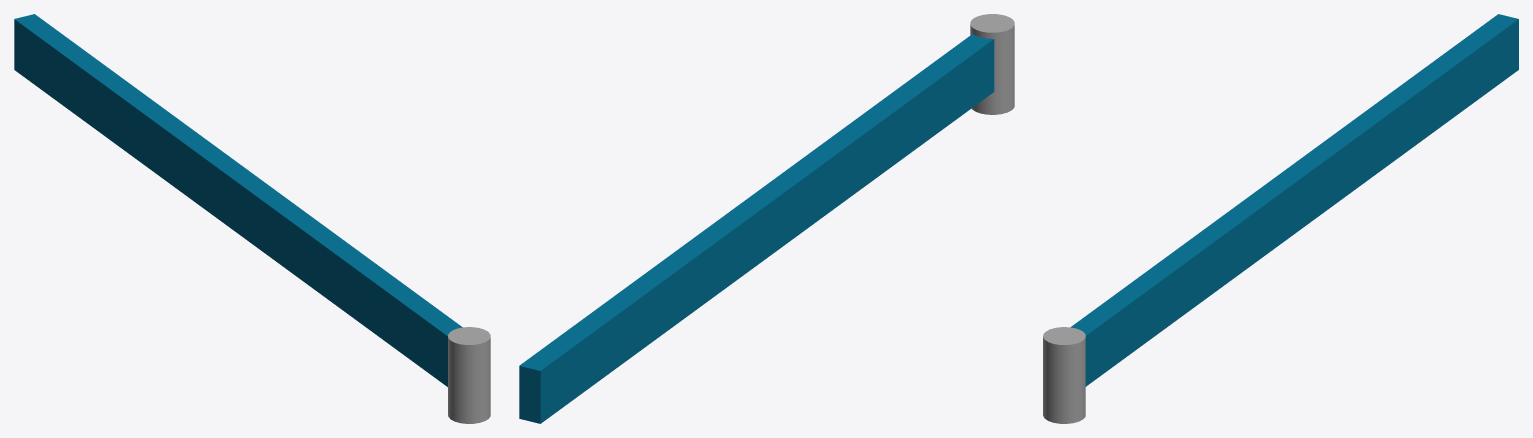
File: Sprinkler2.fbx
The picture shows the model from 3 angles, left to right: view 1: azimuth 30°, elevation 25°; view 2: azimuth 150°, elevation 25°; view 3: azimuth 330°, elevation 25°; orthographic projection. The views are drawn at different scales.
Visible parts, largest first — view 1: pCylinder21; view 2: pCylinder21; view 3: pCylinder21.
Boxes of the visible parts, x1,y1,x2,y2 form: pCylinder21: [14, 14, 490, 423]; pCylinder21: [519, 14, 1014, 423]; pCylinder21: [1043, 14, 1518, 423].
Size of the model in its own units: 0.7667 by 1.55 by 16.23.
